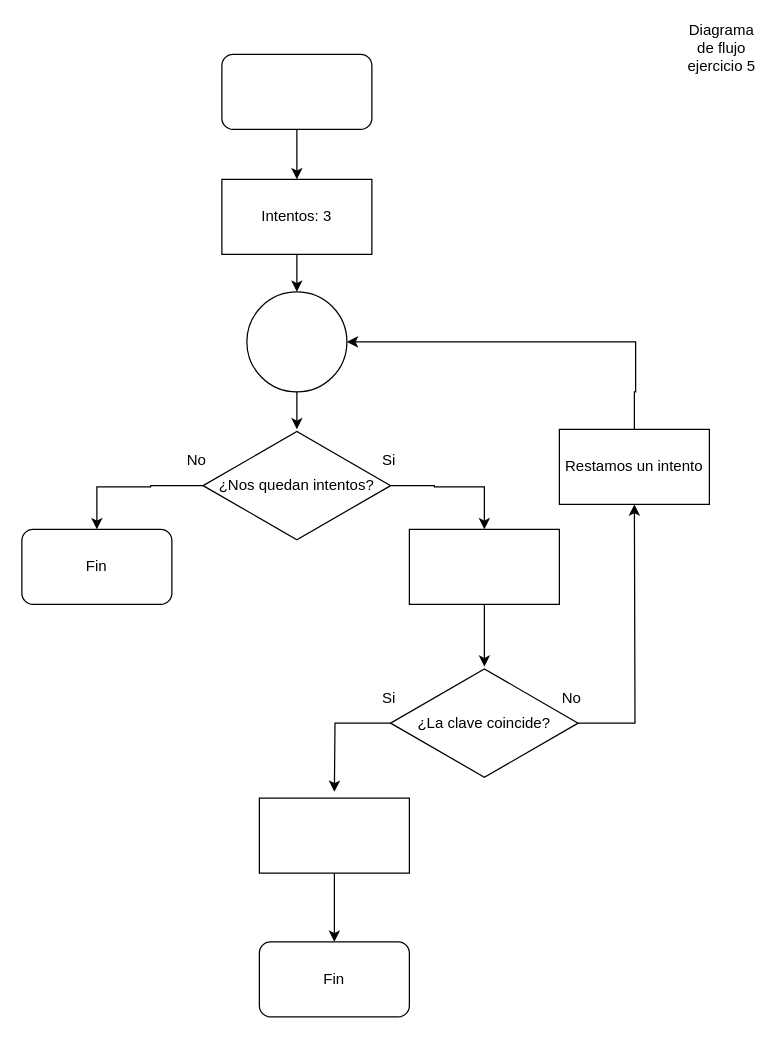
Some shapes in this 781 by 1039 pixel diagram are drawn without their labels. Each missing label, with the box of its shape:
Inicio: (221, 53, 372, 129)
La clave es correcta: (258, 797, 409, 873)
Leemos la clave: (408, 528, 559, 604)
